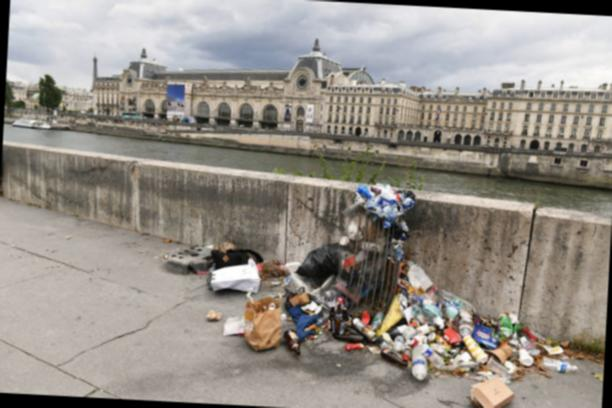trash: (368, 314, 435, 379), (228, 292, 284, 366), (205, 235, 261, 298), (384, 274, 420, 363), (279, 249, 345, 296), (414, 327, 478, 366), (394, 251, 440, 304), (357, 180, 418, 216), (473, 350, 530, 388), (341, 308, 386, 352), (463, 374, 521, 408), (215, 305, 269, 339), (318, 299, 353, 343), (295, 294, 322, 349), (282, 284, 304, 350), (539, 339, 573, 381), (471, 308, 502, 354), (428, 298, 464, 333), (453, 296, 484, 336), (500, 309, 540, 340), (490, 322, 524, 358), (259, 244, 287, 286), (524, 338, 556, 374)
trash_can_overflow: (235, 173, 492, 397)
